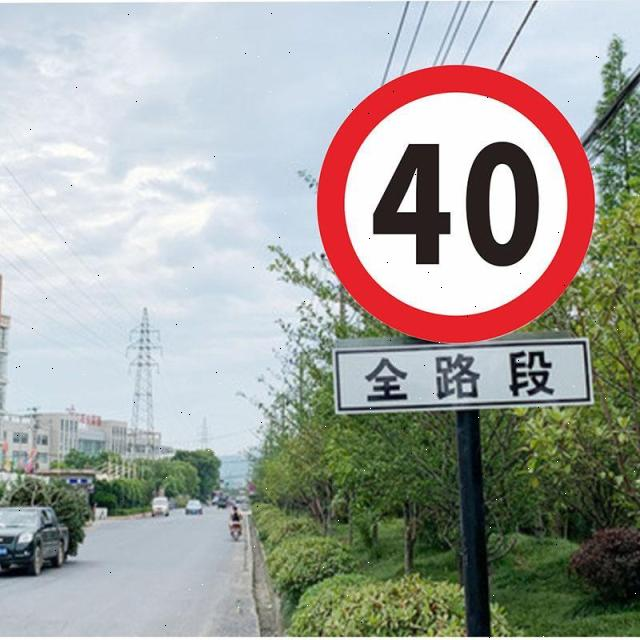speed limit 40: (315, 66, 598, 343)
